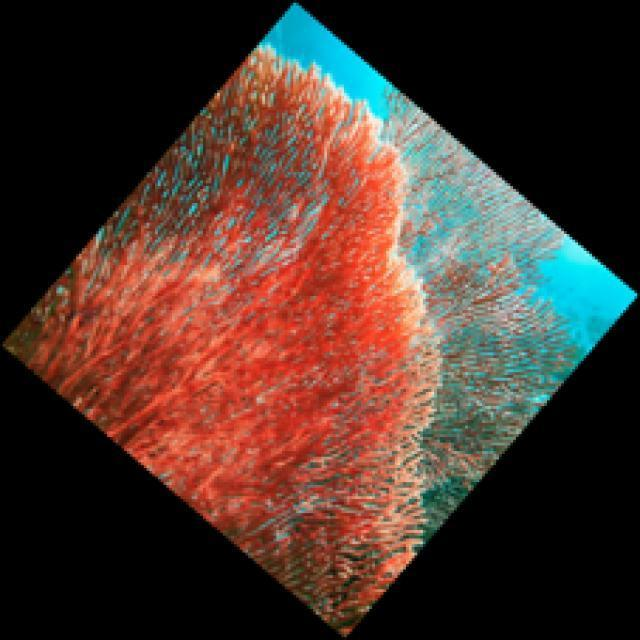Healthy: (1, 46, 444, 640)
